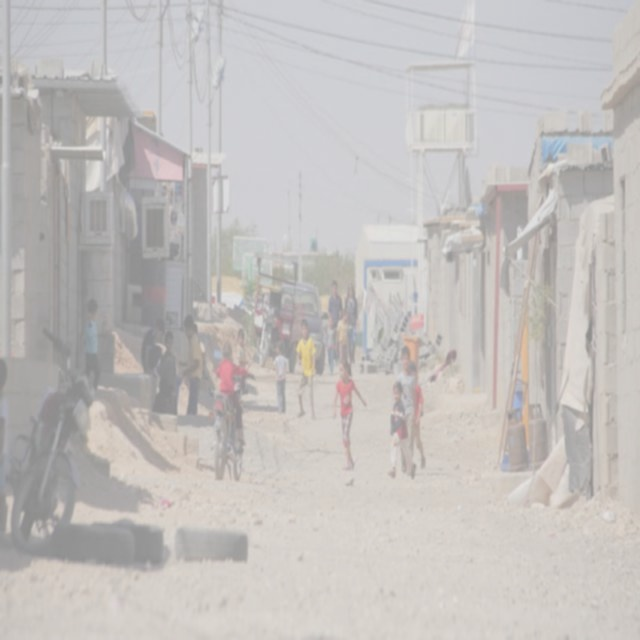pessoa: (330, 356, 368, 474), (212, 334, 250, 446), (384, 378, 418, 484), (396, 344, 417, 474), (294, 316, 318, 423), (0, 352, 12, 551), (182, 314, 204, 418), (408, 361, 426, 471), (84, 296, 102, 395), (158, 329, 176, 416), (326, 277, 344, 364), (342, 283, 360, 367), (140, 318, 166, 376), (271, 336, 289, 418), (235, 327, 250, 397), (334, 306, 350, 364), (324, 314, 338, 378), (176, 198, 187, 260)
